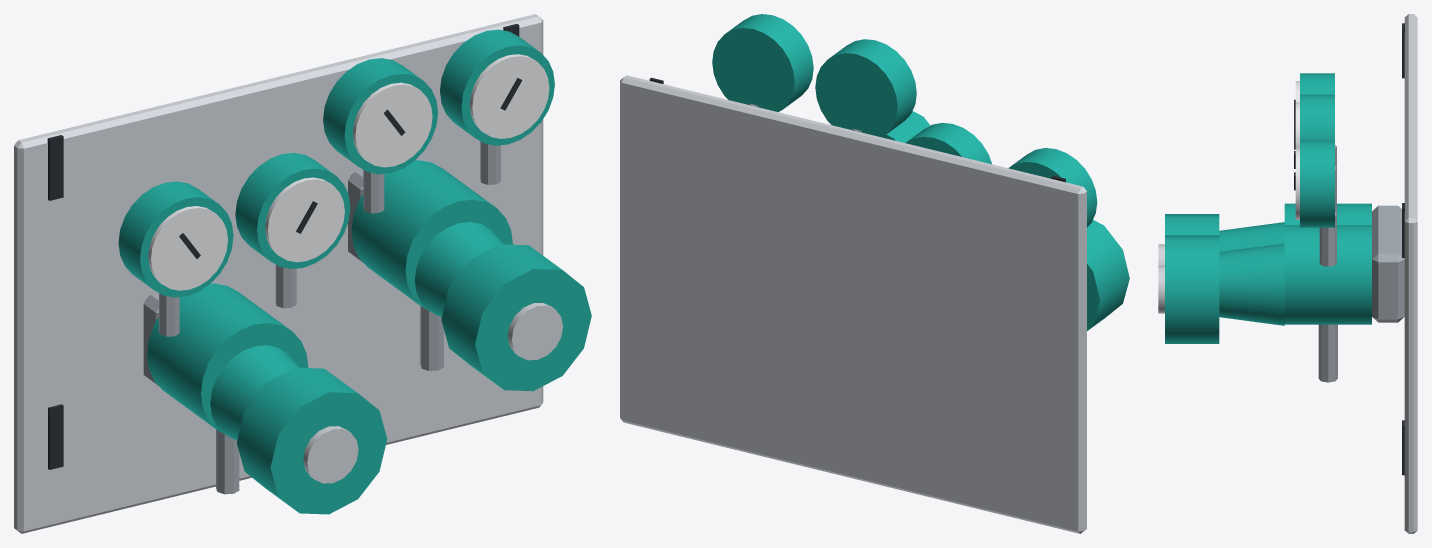
File: regulator-panel-2.glb
The picture shows the model from 3 angles, left to right: view 1: azimuth 30°, elevation 25°; view 2: azimuth 150°, elevation 25°; view 3: azimuth 270°, elevation 25°; orthographic projection. The views are drawn at different scales.
Parts seen in each view (by area): view 1: regulator-panel-2; view 2: regulator-panel-2; view 3: regulator-panel-2.
Part boxes in pixels (x1,y1,x2,y2): regulator-panel-2: (14, 14, 591, 533); regulator-panel-2: (620, 14, 1129, 533); regulator-panel-2: (1158, 14, 1417, 533).
Bounding box in the file's own units: 0.45 × 0.355 × 0.238.
